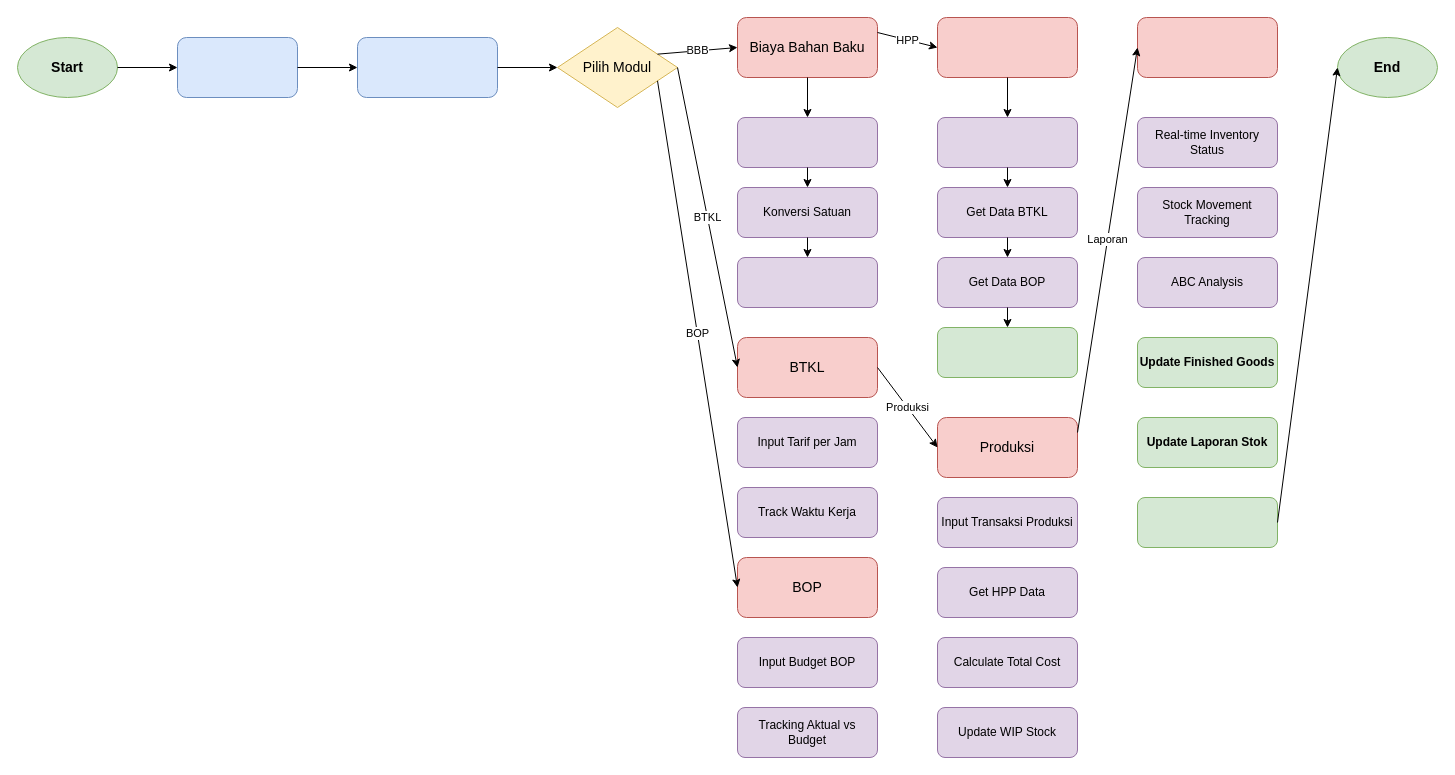
Image size: 1455x775. Some labels were removed from this diagram. The shapes that lost their labels are listed below. From the top down, each one's centre as x and y in pixels, then its label:
At point (237, 67): "Login User".
At point (427, 67): "Dashboard SIMCOST".
At point (1007, 47): "Harga Pokok Produksi".
At point (1207, 47): "Laporan Stok".
At point (807, 142): "Input Data Bahan Baku".
At point (1007, 142): "Get Data BBB".
At point (807, 282): "Hitung Harga Rata-rata".
At point (1007, 352): "Calculate HPP = BBB + BTKL + BOP".
At point (1207, 522): "Generate Reports".
